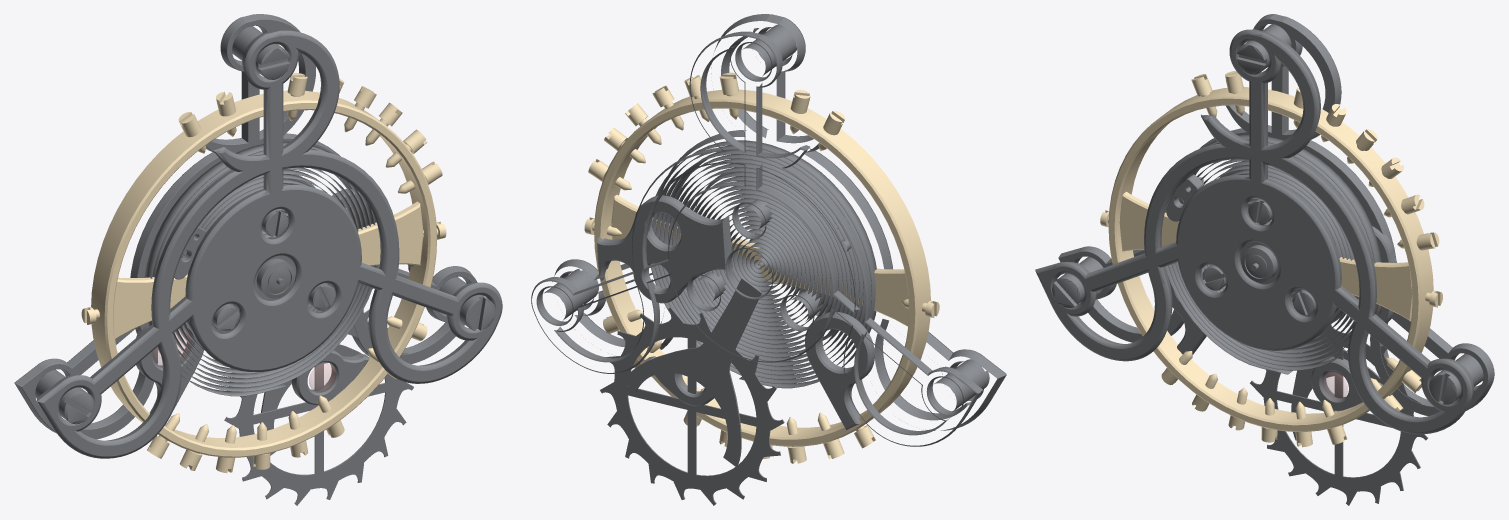
Rendered from machine example.glb.
3 views of the same model, side by side, from view 1: azimuth 30°, elevation 25°; view 2: azimuth 150°, elevation 25°; view 3: azimuth 330°, elevation 25° (orthographic). The views are drawn at different scales.
Parts seen in each view (by area): view 1: Tourbillon.2, Ring.NULL.1, Tourbillon, middle helix, CogArn.NULL.1, Screw.10, Things.1, Screw.8, Screw, Inlay, Screw.1, Screw.2 (+5 smaller); view 2: middle helix, Ring.NULL.1, CogArn.NULL.1, Tourbillon, Things.1, Tourbillon.2, Screw.10, Screw.8, Screw.2, Screw.1, Screw; view 3: Tourbillon.2, Ring.NULL.1, Tourbillon, middle helix, CogArn.NULL.1, Things.1, Screw.10, Screw.8, Screw.2, Inlay, Screw, Screw.1 (+2 smaller).
Part boxes in pixels (bbox=[...]): Tourbillon.2: bbox=[36, 30, 502, 458]; Ring.NULL.1: bbox=[91, 90, 437, 457]; Tourbillon: bbox=[14, 14, 476, 439]; middle helix: bbox=[144, 141, 378, 396]; CogArn.NULL.1: bbox=[224, 310, 413, 505]; Screw.10: bbox=[178, 73, 442, 193]; Things.1: bbox=[136, 189, 413, 424]; Screw.8: bbox=[147, 316, 427, 473]; Screw: bbox=[232, 26, 290, 79]; Inlay: bbox=[254, 255, 295, 300]; Screw.1: bbox=[35, 369, 94, 424]; Screw.2: bbox=[439, 277, 495, 330]; middle helix: bbox=[650, 140, 876, 388]; Ring.NULL.1: bbox=[594, 89, 930, 446]; CogArn.NULL.1: bbox=[600, 277, 784, 505]; Tourbillon: bbox=[531, 31, 982, 446]; Things.1: bbox=[597, 195, 874, 430]; Tourbillon.2: bbox=[554, 14, 1006, 430]; Screw.10: bbox=[588, 72, 845, 190]; Screw.8: bbox=[603, 309, 875, 463]; Screw.2: bbox=[543, 268, 598, 320]; Screw.1: bbox=[933, 359, 989, 411]; Screw: bbox=[742, 24, 796, 76]; Tourbillon.2: bbox=[1035, 29, 1473, 434]; Ring.NULL.1: bbox=[1108, 87, 1433, 431]; Tourbillon: bbox=[1058, 14, 1494, 416]; middle helix: bbox=[1165, 134, 1381, 374]; CogArn.NULL.1: bbox=[1250, 324, 1427, 505]; Things.1: bbox=[1169, 226, 1397, 411]; Screw.10: bbox=[1191, 71, 1439, 250]; Screw.8: bbox=[1161, 351, 1421, 447]; Screw.2: bbox=[1429, 353, 1483, 404]; Inlay: bbox=[1240, 242, 1278, 284]; Screw: bbox=[1236, 24, 1291, 74]; Screw.1: bbox=[1052, 257, 1103, 308].
Bounding box in the file's own units: 277 × 286 × 36.74.
